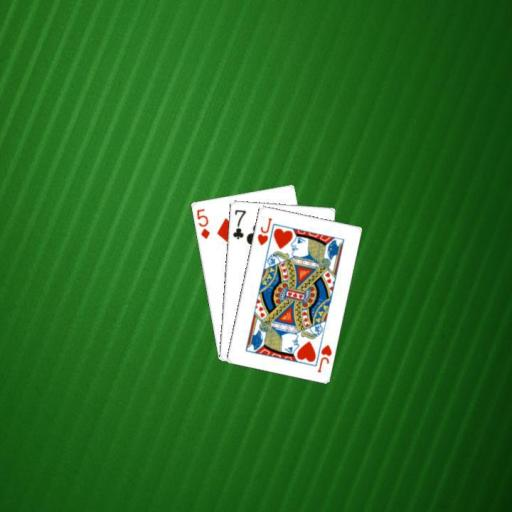5D: (194, 206, 212, 241)
7C: (230, 207, 248, 241)
JH: (254, 214, 273, 247), (314, 342, 333, 374)
